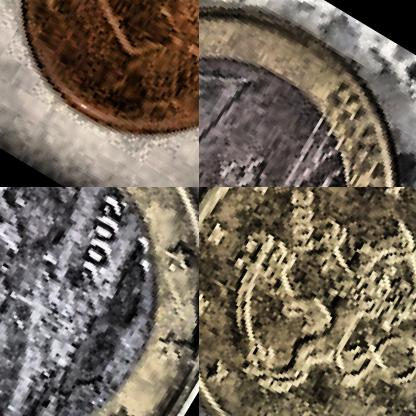coin: (199, 187, 415, 415), (0, 187, 198, 415), (199, 0, 415, 186), (0, 0, 198, 186)
